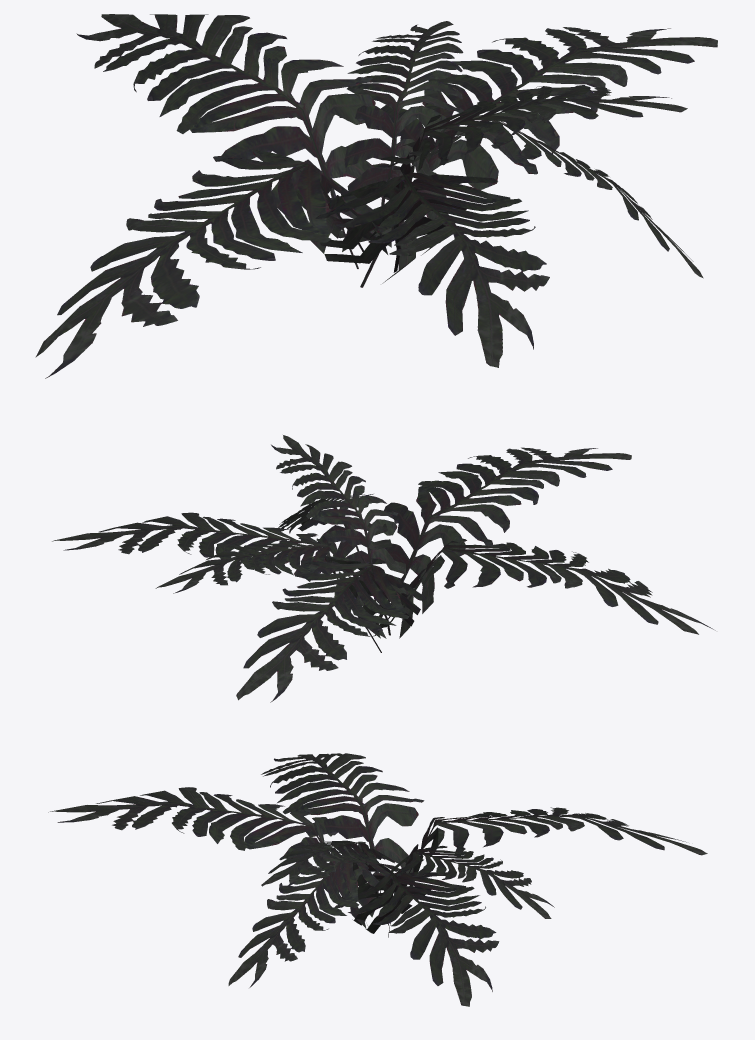
File: bush4_2s.fbx
3 renders of one model, top to bottom at view 1: azimuth 30°, elevation 25°; view 2: azimuth 150°, elevation 25°; view 3: azimuth 270°, elevation 25°, orthographic. The views are drawn at different scales.
Parts seen in each view (by area): view 1: Scene_Root; view 2: Scene_Root; view 3: Scene_Root.
Boxes of the visible parts, x1,y1,x2,y2 form: Scene_Root: (35, 14, 717, 378); Scene_Root: (52, 435, 715, 702); Scene_Root: (48, 753, 707, 1006).
Size of the model in its own units: 563 by 122 by 584.
